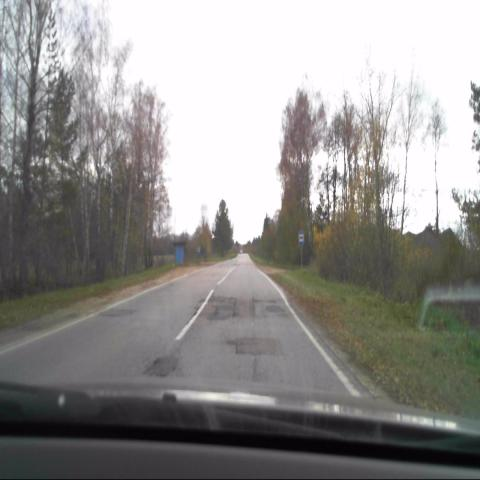5_16: (298, 231, 304, 246)
